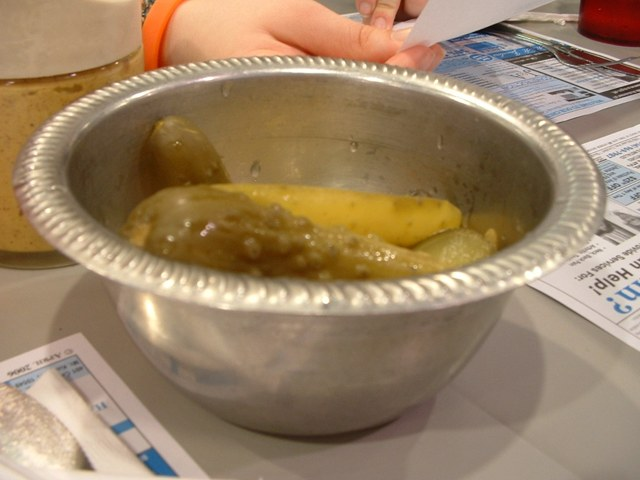bowl: (12, 54, 608, 437)
